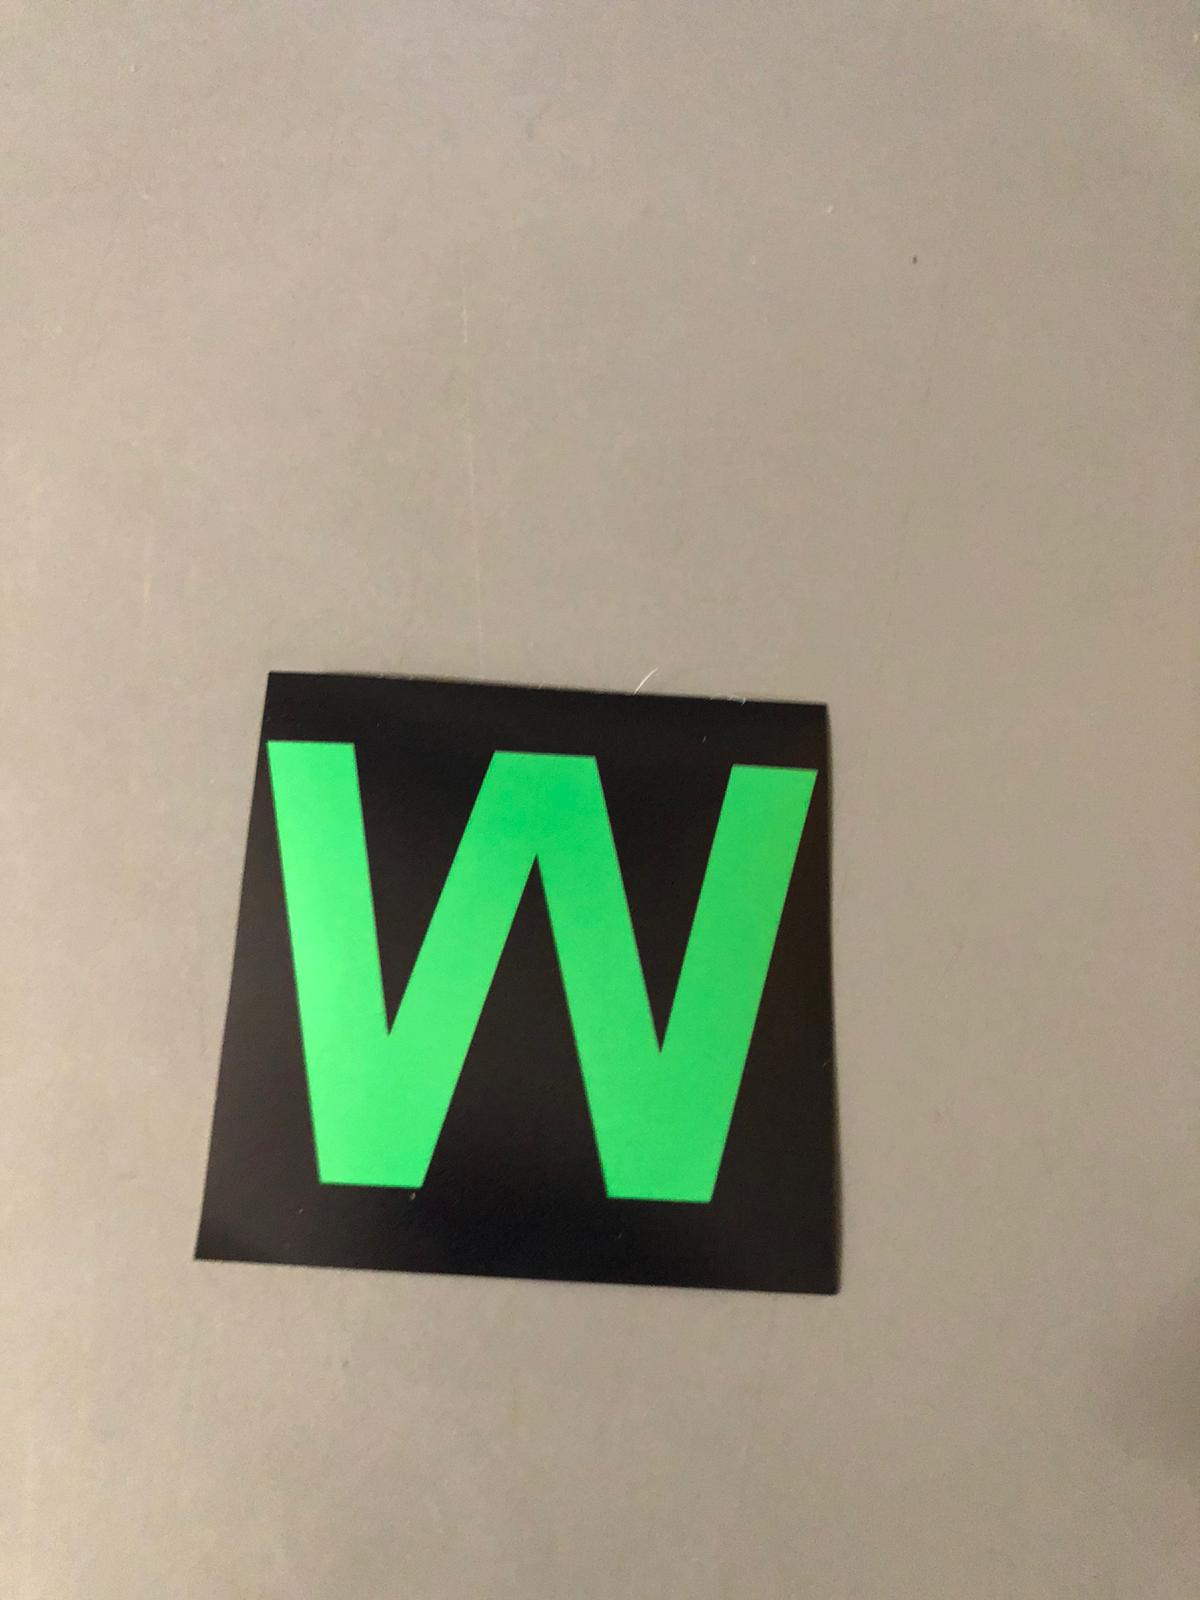W: (241, 687, 841, 1301)
